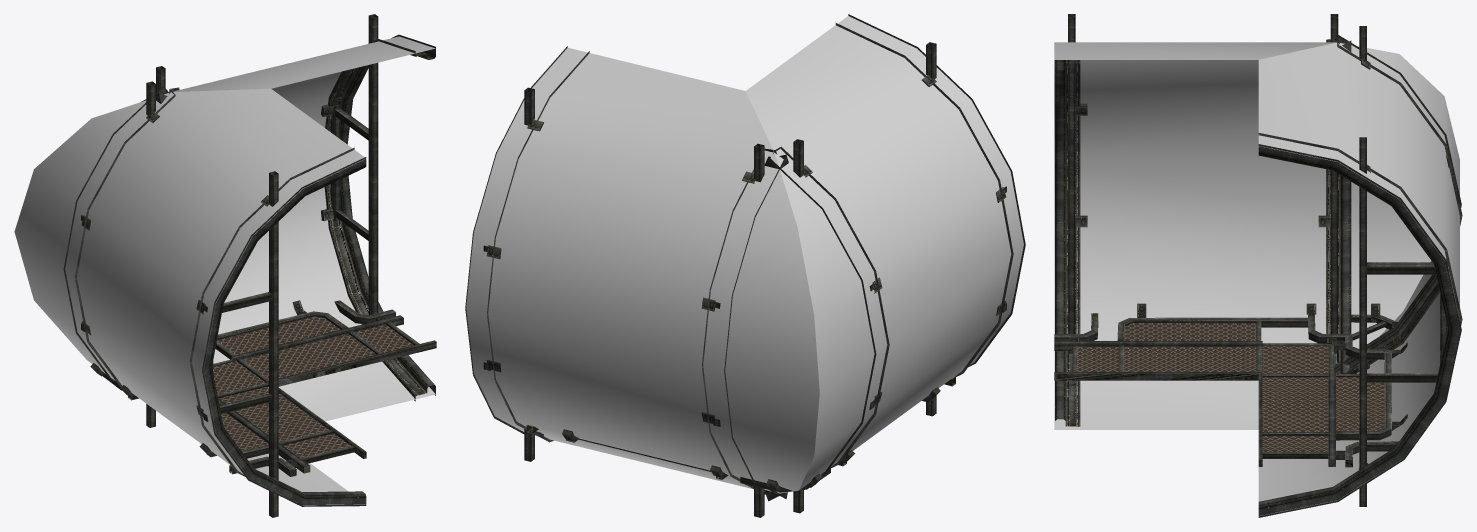
Rendered from tunnel_curved_wall_corner_outside.DAE.
3 renders of one model, left to right at view 1: azimuth 30°, elevation 25°; view 2: azimuth 150°, elevation 25°; view 3: azimuth 270°, elevation 25°, orthographic. The views are drawn at different scales.
Parts seen in each view (by area): view 1: curved_wall_corner_outside, curved_wall_details_outside, curved_wall_floor_mesh_outside; view 2: curved_wall_corner_outside, curved_wall_details_outside; view 3: curved_wall_corner_outside, curved_wall_details_outside, curved_wall_floor_mesh_outside.
Part boxes in pixels (x1,y1,x2,y2): curved_wall_corner_outside: (14,36,435,505); curved_wall_details_outside: (63,14,436,517); curved_wall_floor_mesh_outside: (213,316,413,458); curved_wall_corner_outside: (466,16,1023,493); curved_wall_details_outside: (465,14,1025,517); curved_wall_corner_outside: (1054,42,1459,516); curved_wall_details_outside: (1054,14,1462,517); curved_wall_floor_mesh_outside: (1077,323,1386,451).
Size of the model in its own units: 4 by 4.05 by 4.
